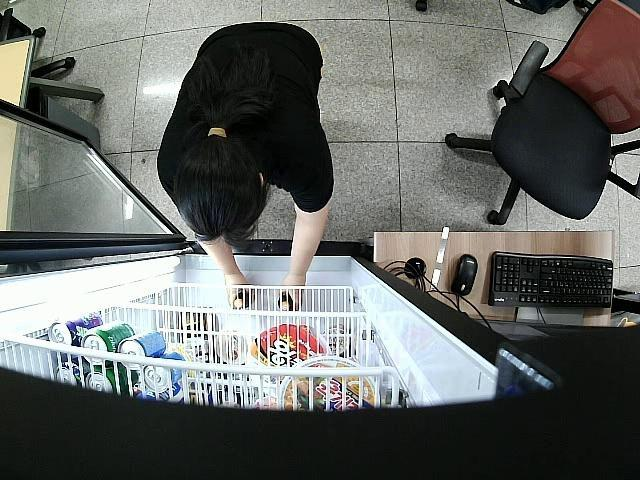17_vita500: (230, 289, 252, 310), (276, 292, 296, 313)
